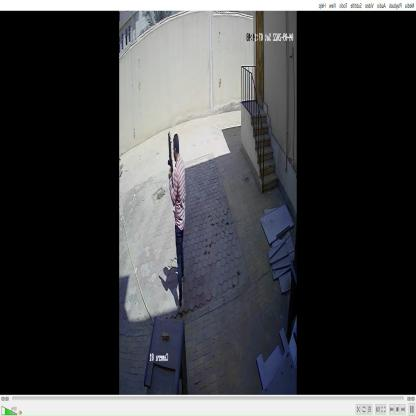handgun: (164, 128, 176, 194)
